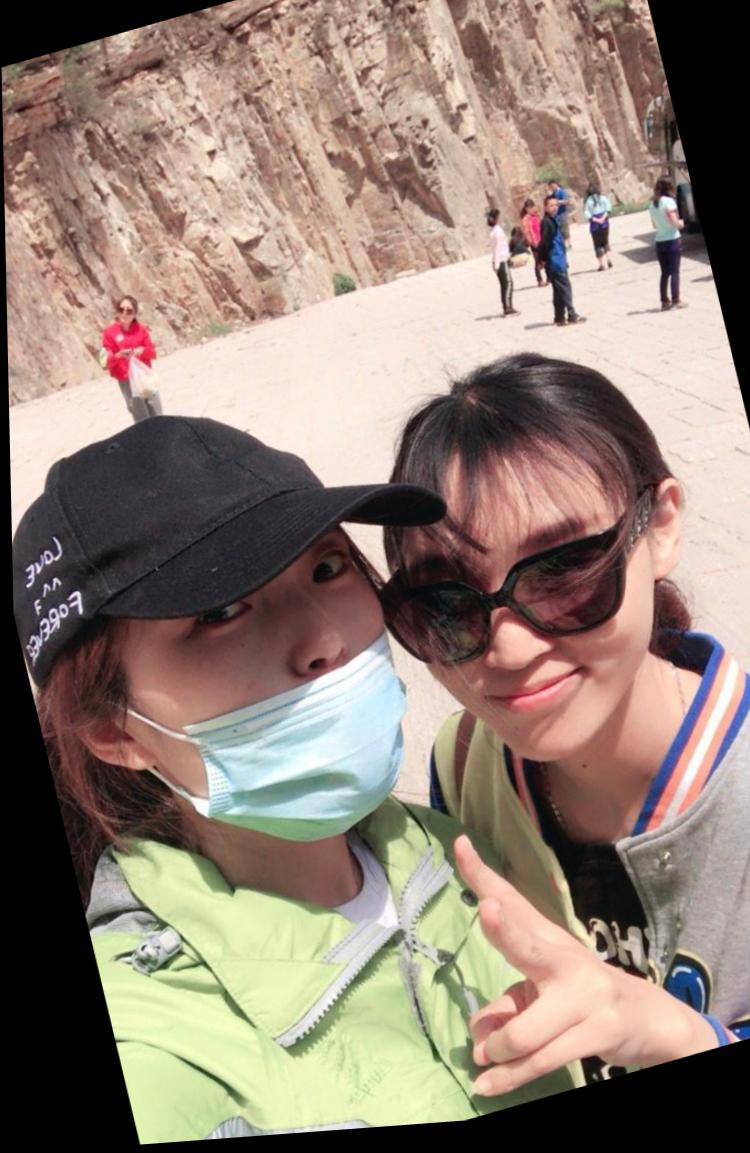NONE: (406, 499, 689, 801), (115, 304, 135, 328)
WRONG: (100, 485, 430, 878)
